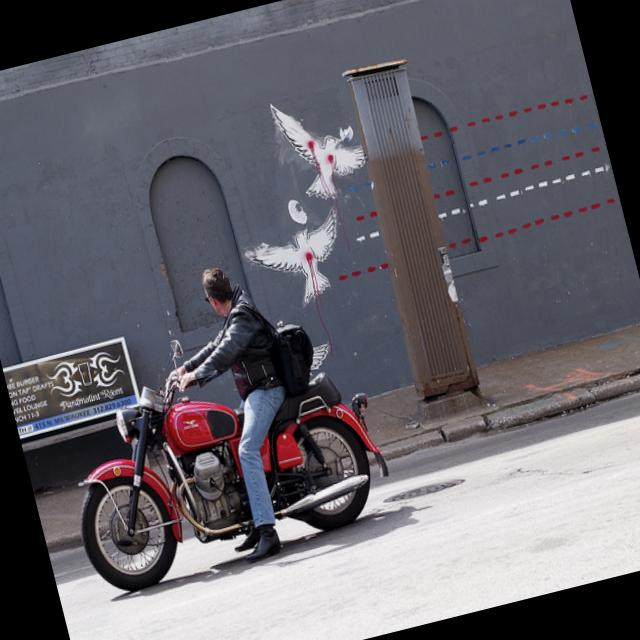Vehicle: (33, 296, 399, 598)
